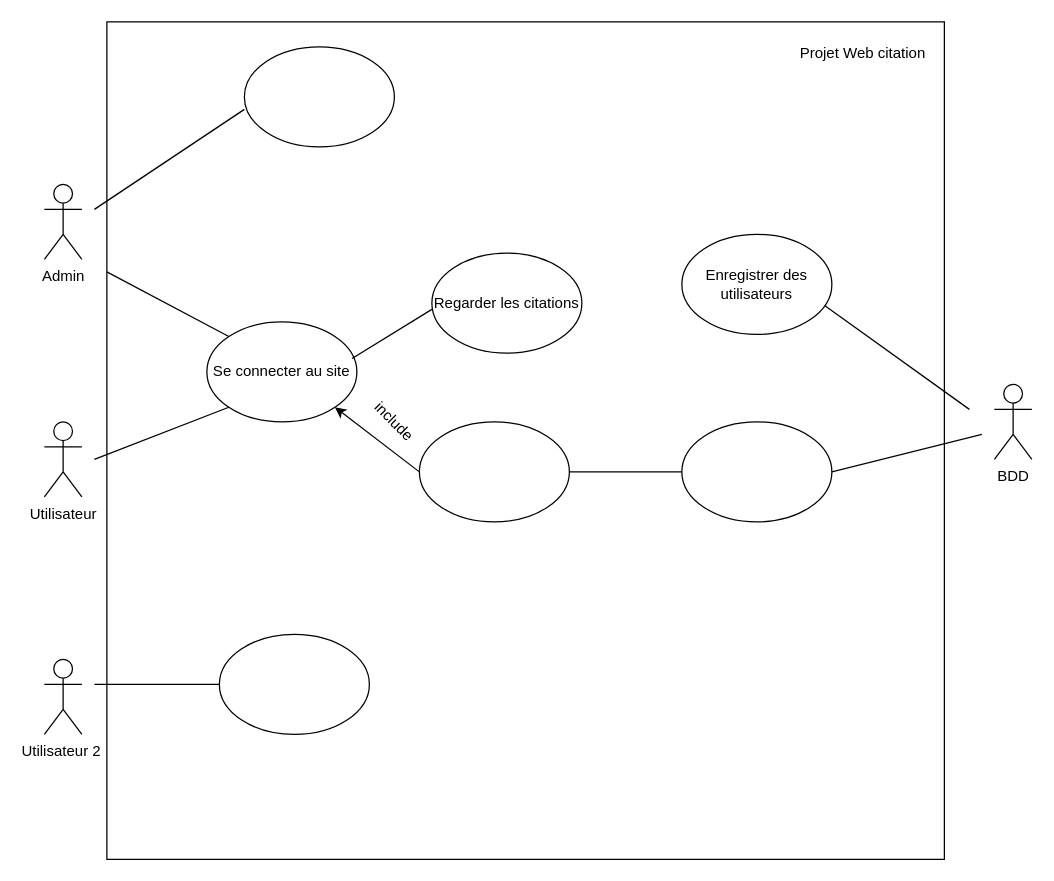
Some shapes in this 1054 by 881 pixel diagram are drawn without their labels. Here are the shapes that lost their labels. From the top down, the box of each, then its label:
(243, 46, 394, 147): Supprimer une citation
(418, 421, 569, 522): Déposer une citation
(681, 421, 832, 522): Enregistrer des citations
(218, 633, 369, 734): Consulter le site internet
